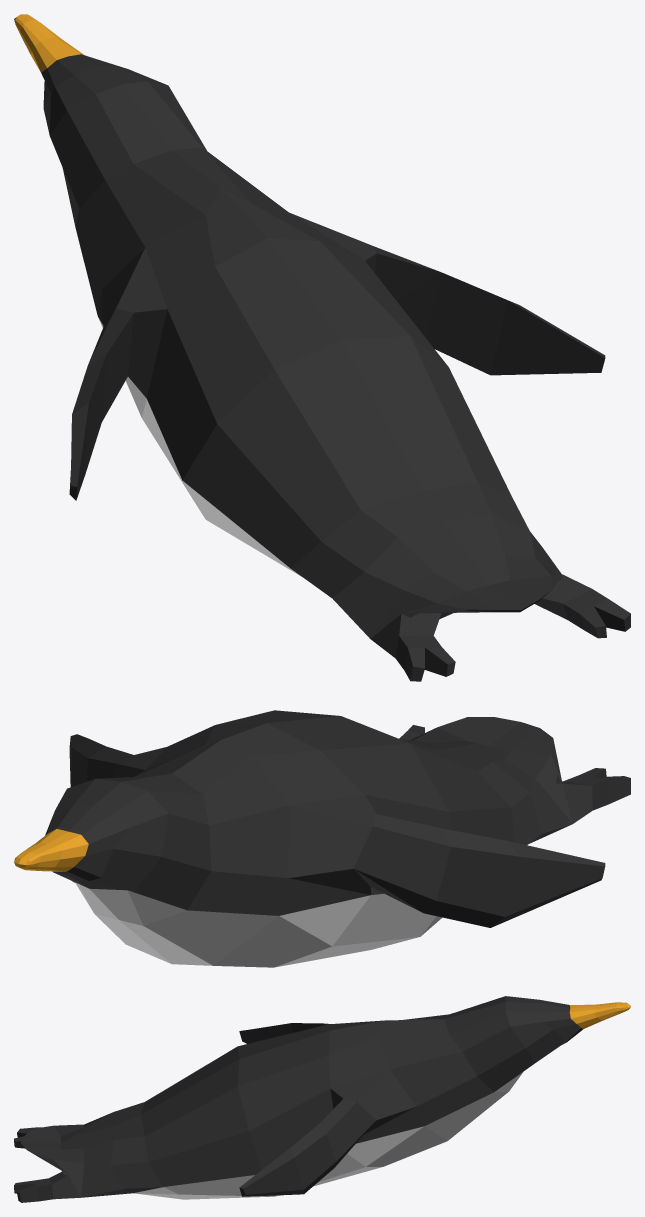
File: Penguin.glb
3 renders of one model, top to bottom at view 1: azimuth 30°, elevation 25°; view 2: azimuth 150°, elevation 25°; view 3: azimuth 270°, elevation 25°, orthographic. The views are drawn at different scales.
Visible parts, largest first — view 1: Penguin; view 2: Penguin; view 3: Penguin.
Part boxes in pixels (x1=…): Penguin: x1=14, y1=14, x2=630, y2=681; Penguin: x1=14, y1=710, x2=630, y2=967; Penguin: x1=14, y1=996, x2=630, y2=1202.
Bounding box in the file's own units: 0.4134 × 0.2239 × 0.6811.
